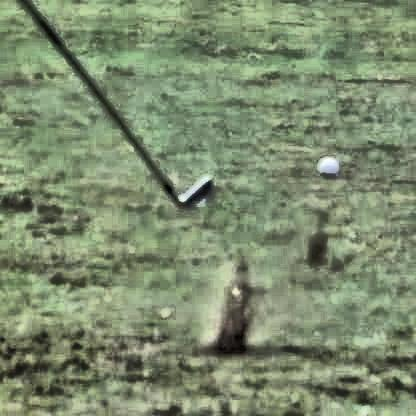golfball: (315, 154, 337, 176)
